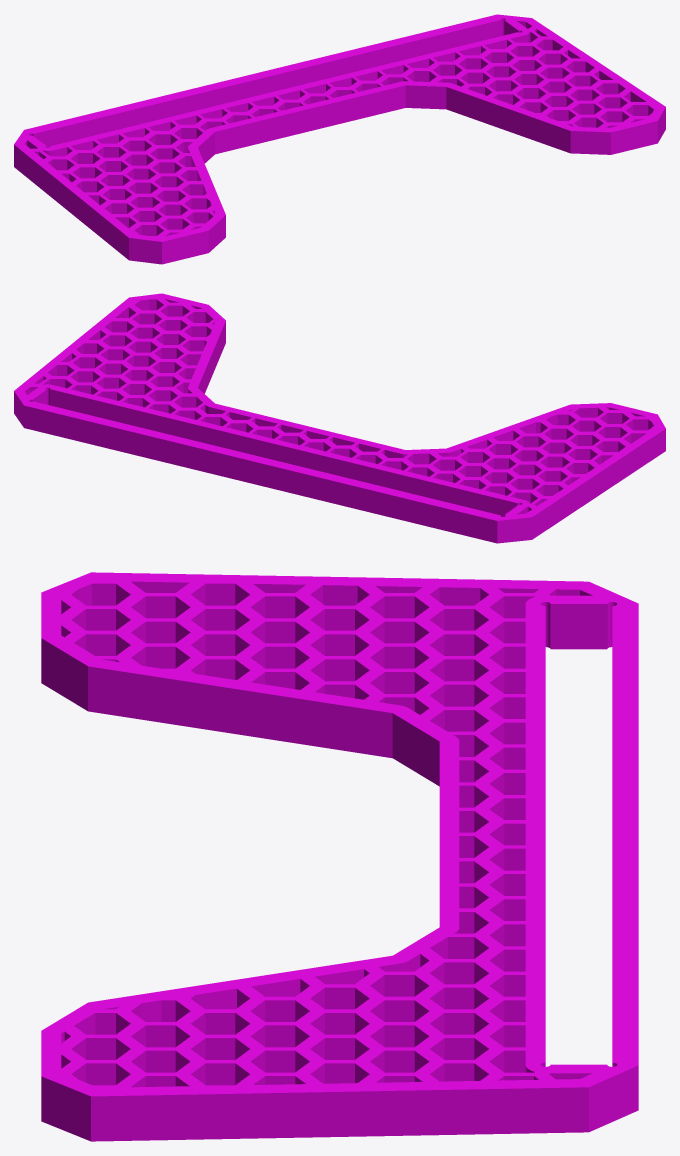
The model's file is monitor-stand-side-support.glb.
3 views of the same model, one above another, from view 1: azimuth 30°, elevation 25°; view 2: azimuth 150°, elevation 25°; view 3: azimuth 270°, elevation 25° (orthographic). The views are drawn at different scales.
Visible parts, largest first — view 1: support; view 2: support; view 3: support.
Part boxes in pixels (left/top/right/bottom): support: left=14, top=14, right=665, bottom=264; support: left=14, top=293, right=665, bottom=543; support: left=41, top=572, right=638, bottom=1141.
Bounding box in the file's own units: 249 × 10 × 120.
